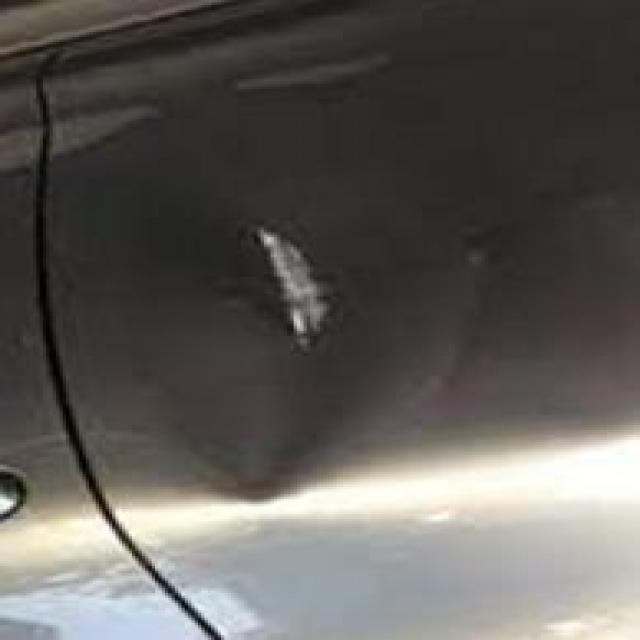dent: (114, 144, 428, 554)
